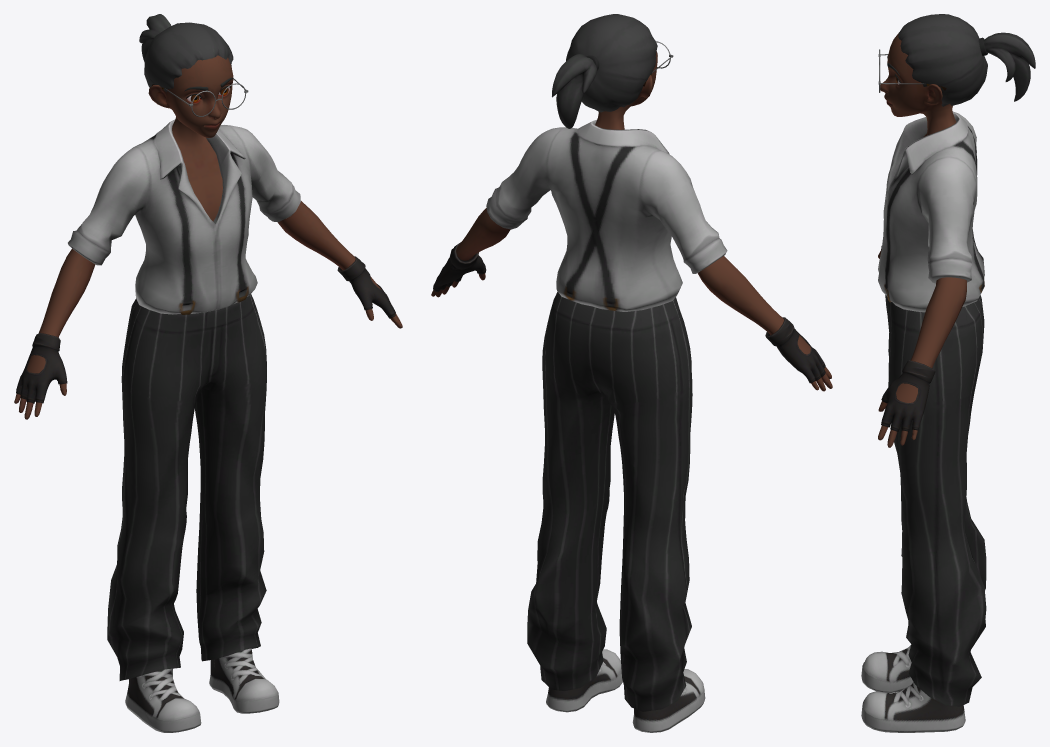
File: StaffSecretary_Mesh.obj
The picture shows the model from 3 angles, left to right: view 1: azimuth 30°, elevation 25°; view 2: azimuth 150°, elevation 25°; view 3: azimuth 270°, elevation 25°; orthographic projection. The views are drawn at different scales.
Visible parts, largest first — view 1: StaffSecretary_Mesh_0; view 2: StaffSecretary_Mesh_0; view 3: StaffSecretary_Mesh_0.
Boxes of the visible parts, bbox=[...] form: StaffSecretary_Mesh_0: bbox=[14, 14, 402, 732]; StaffSecretary_Mesh_0: bbox=[431, 14, 832, 732]; StaffSecretary_Mesh_0: bbox=[861, 14, 1035, 732].
Bounding box in the file's own units: 1.06 × 1.8 × 0.4133.
Materials: 1 (1 with a texture image).
